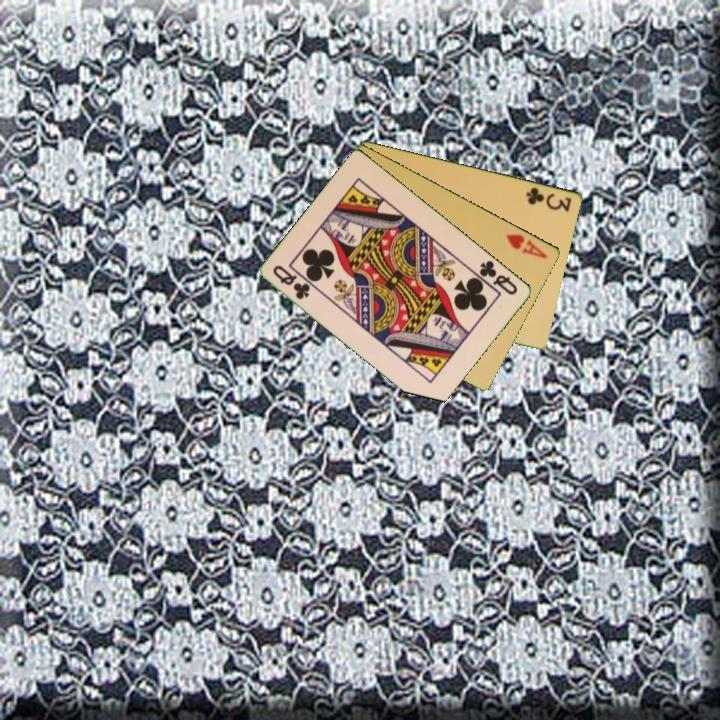3c: (523, 183, 575, 214)
Ah: (503, 230, 551, 261)
Qc: (476, 257, 521, 298), (269, 261, 314, 302)
